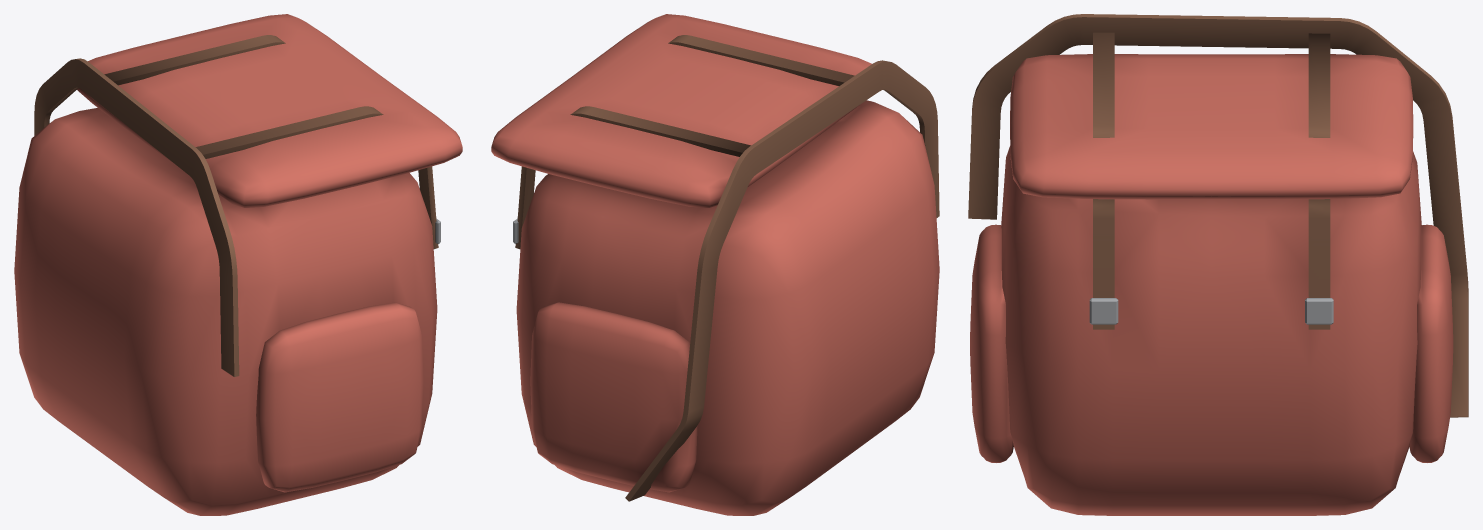
Rendered from bag.glb.
3 views of the same model, side by side, from view 1: azimuth 30°, elevation 25°; view 2: azimuth 150°, elevation 25°; view 3: azimuth 270°, elevation 25° (orthographic). The views are drawn at different scales.
Visible parts, largest first — view 1: PART; view 2: PART; view 3: PART.
Part boxes in pixels (x1=…): PART: x1=14, y1=14, x2=462, y2=515; PART: x1=491, y1=14, x2=939, y2=515; PART: x1=968, y1=14, x2=1468, y2=515.
Size of the model in its own units: 0.3922 by 0.45 by 0.5.
